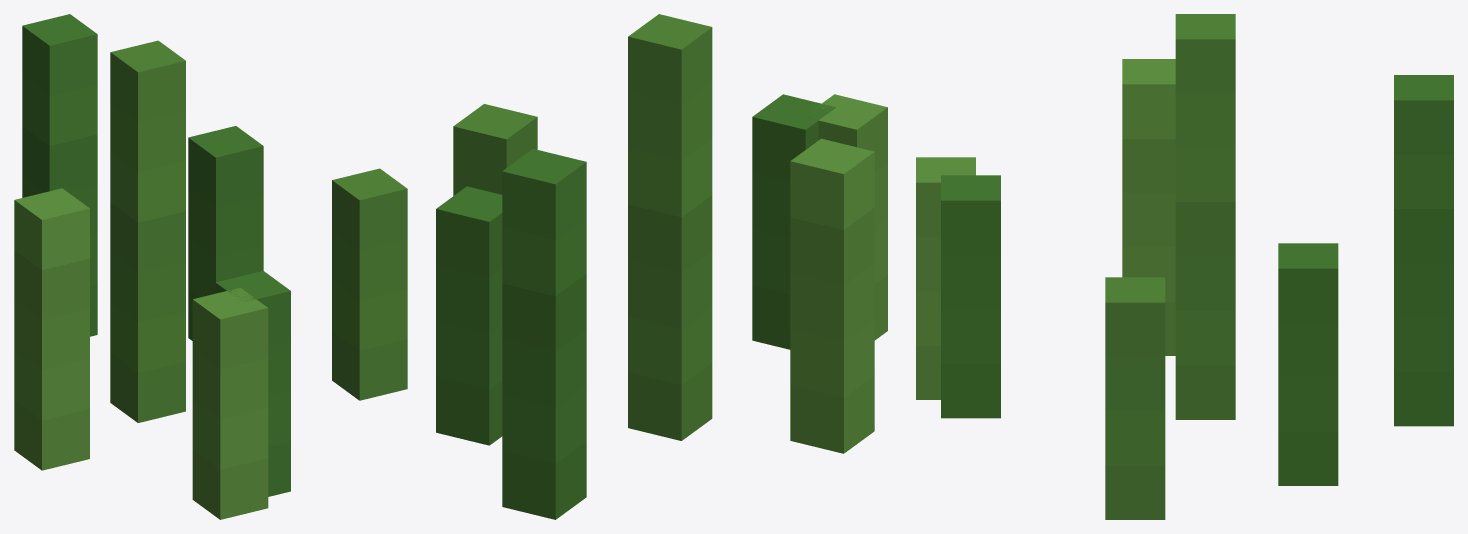
Rendered from grass_1.glb.
The picture shows the model from 3 angles, left to right: view 1: azimuth 30°, elevation 25°; view 2: azimuth 150°, elevation 25°; view 3: azimuth 270°, elevation 25°; orthographic projection. The views are drawn at different scales.
Visible parts, largest first — view 1: Grass; view 2: Grass; view 3: Grass.
Part boxes in pixels (x1=…): Grass: x1=14, y1=14, x2=407, y2=519; Grass: x1=436, y1=14, x2=887, y2=519; Grass: x1=916, y1=14, x2=1453, y2=519.
Size of the model in its own units: 0.3734 by 0.35 by 0.4484.
3 materials, 3 textured.
